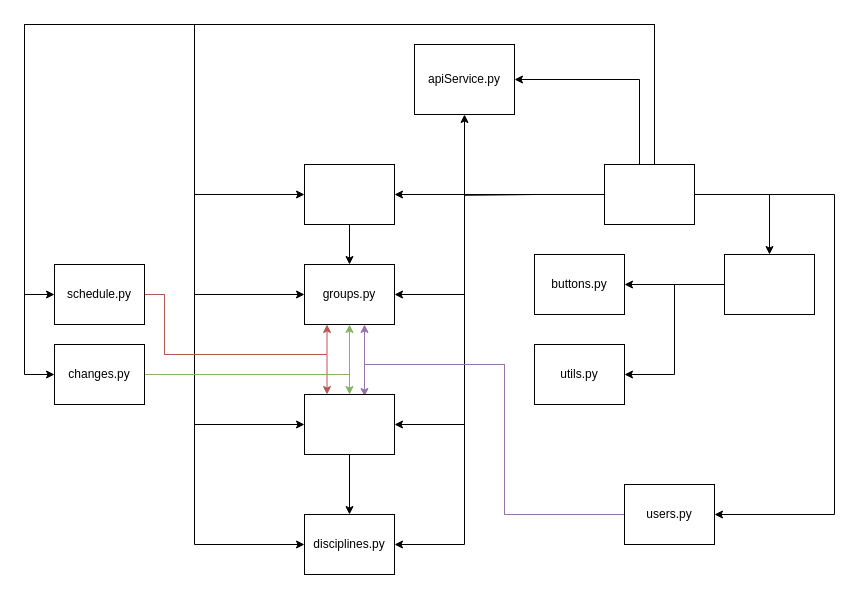
Some shapes in this 860 by 592 pixel diagram are drawn without their labels. The shapes that lost their labels are listed below. From the top down, each one's centre as x and y in pixels, then its label:
At (349,194): "courses.py".
At (649,194): "main.py".
At (769,284): "markup.py".
At (349,424): "teachers.py".
